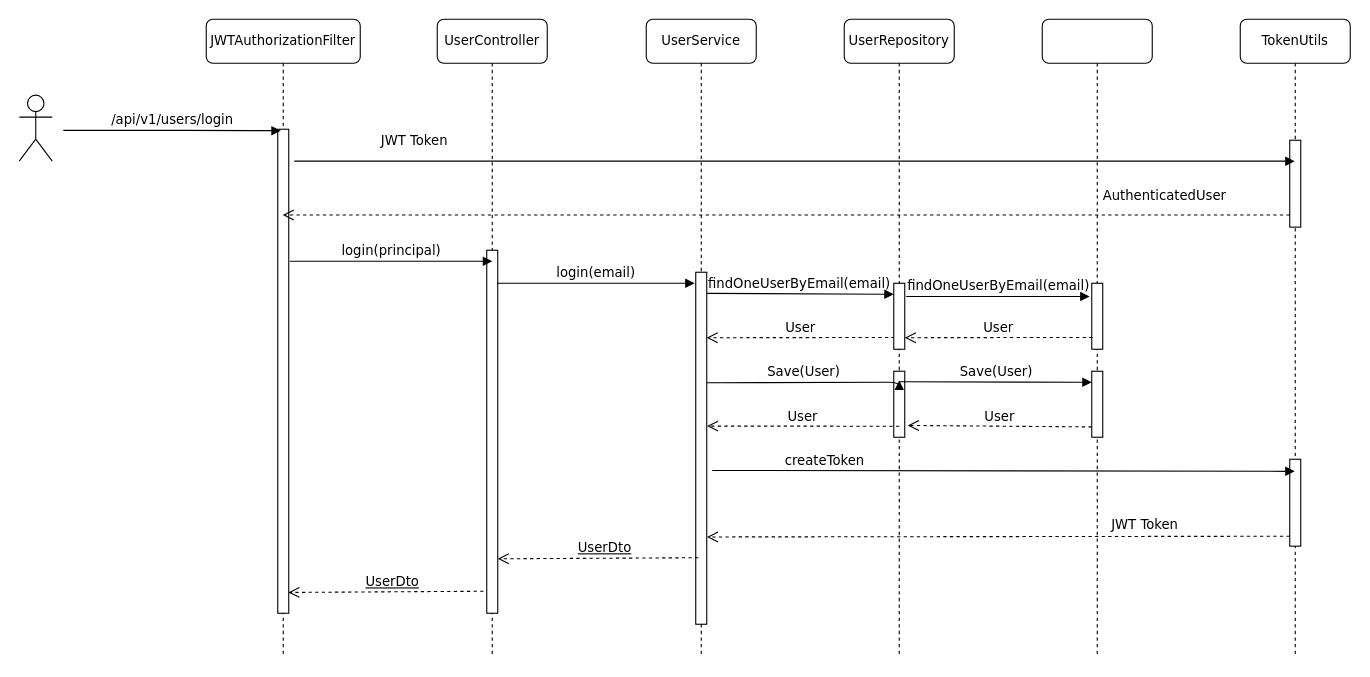
Image size: 1370x677. Some labels were removed from this diagram. Here are the shapes that lost their labels. From the top down, the centre of each, then its label:
At (35,127): "Actor".
At (1096,337): "H2 BD".
